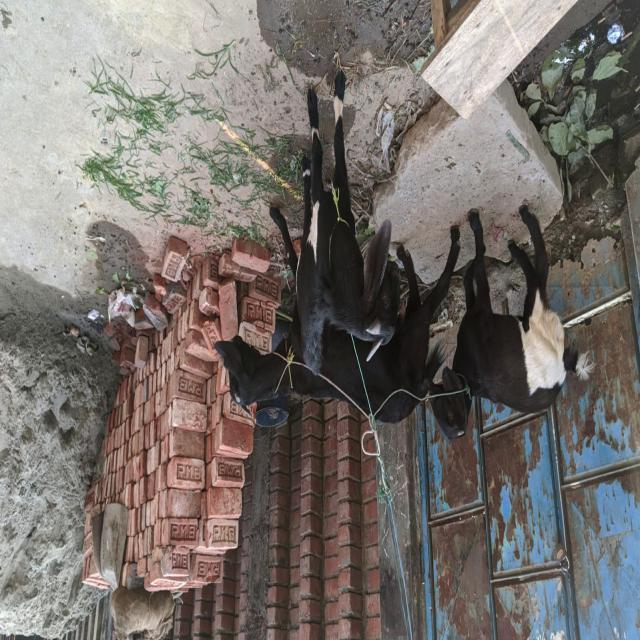Goat: (214, 208, 462, 426), (426, 205, 597, 444), (287, 69, 403, 380)
